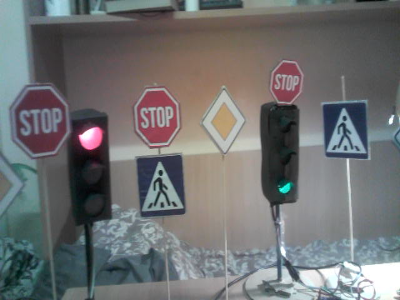crosswalk: (135, 156, 186, 214), (323, 103, 368, 158)
priority_road: (204, 88, 245, 151)
stop: (11, 86, 70, 156), (134, 88, 180, 147), (271, 63, 302, 103)
trafficlight_green: (269, 108, 299, 203)
trafficlight_red: (72, 116, 110, 224)
